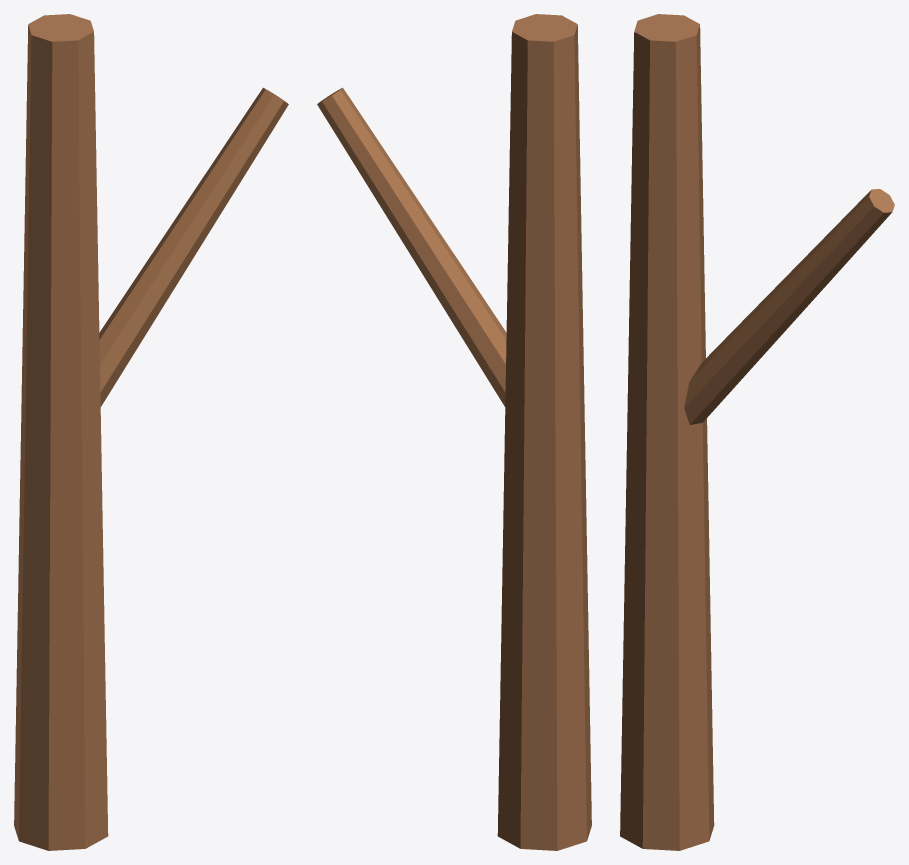
File: branch.glb
The picture shows the model from 3 angles, left to right: view 1: azimuth 30°, elevation 25°; view 2: azimuth 150°, elevation 25°; view 3: azimuth 330°, elevation 25°; orthographic projection.
Visible parts, largest first — view 1: Wood, Twig; view 2: Wood, Twig; view 3: Wood, Twig.
Part boxes in pixels (x1,y1,x2,y2): Wood: (14, 14, 108, 850); Twig: (99, 87, 288, 406); Wood: (497, 14, 591, 850); Twig: (317, 87, 506, 406); Wood: (620, 14, 714, 850); Twig: (684, 189, 894, 424).
Bounding box in the file's own units: 0.3487 × 1 × 0.11.
